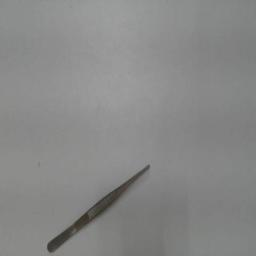Gillies Toothed Dissector: (44, 158, 158, 254)
